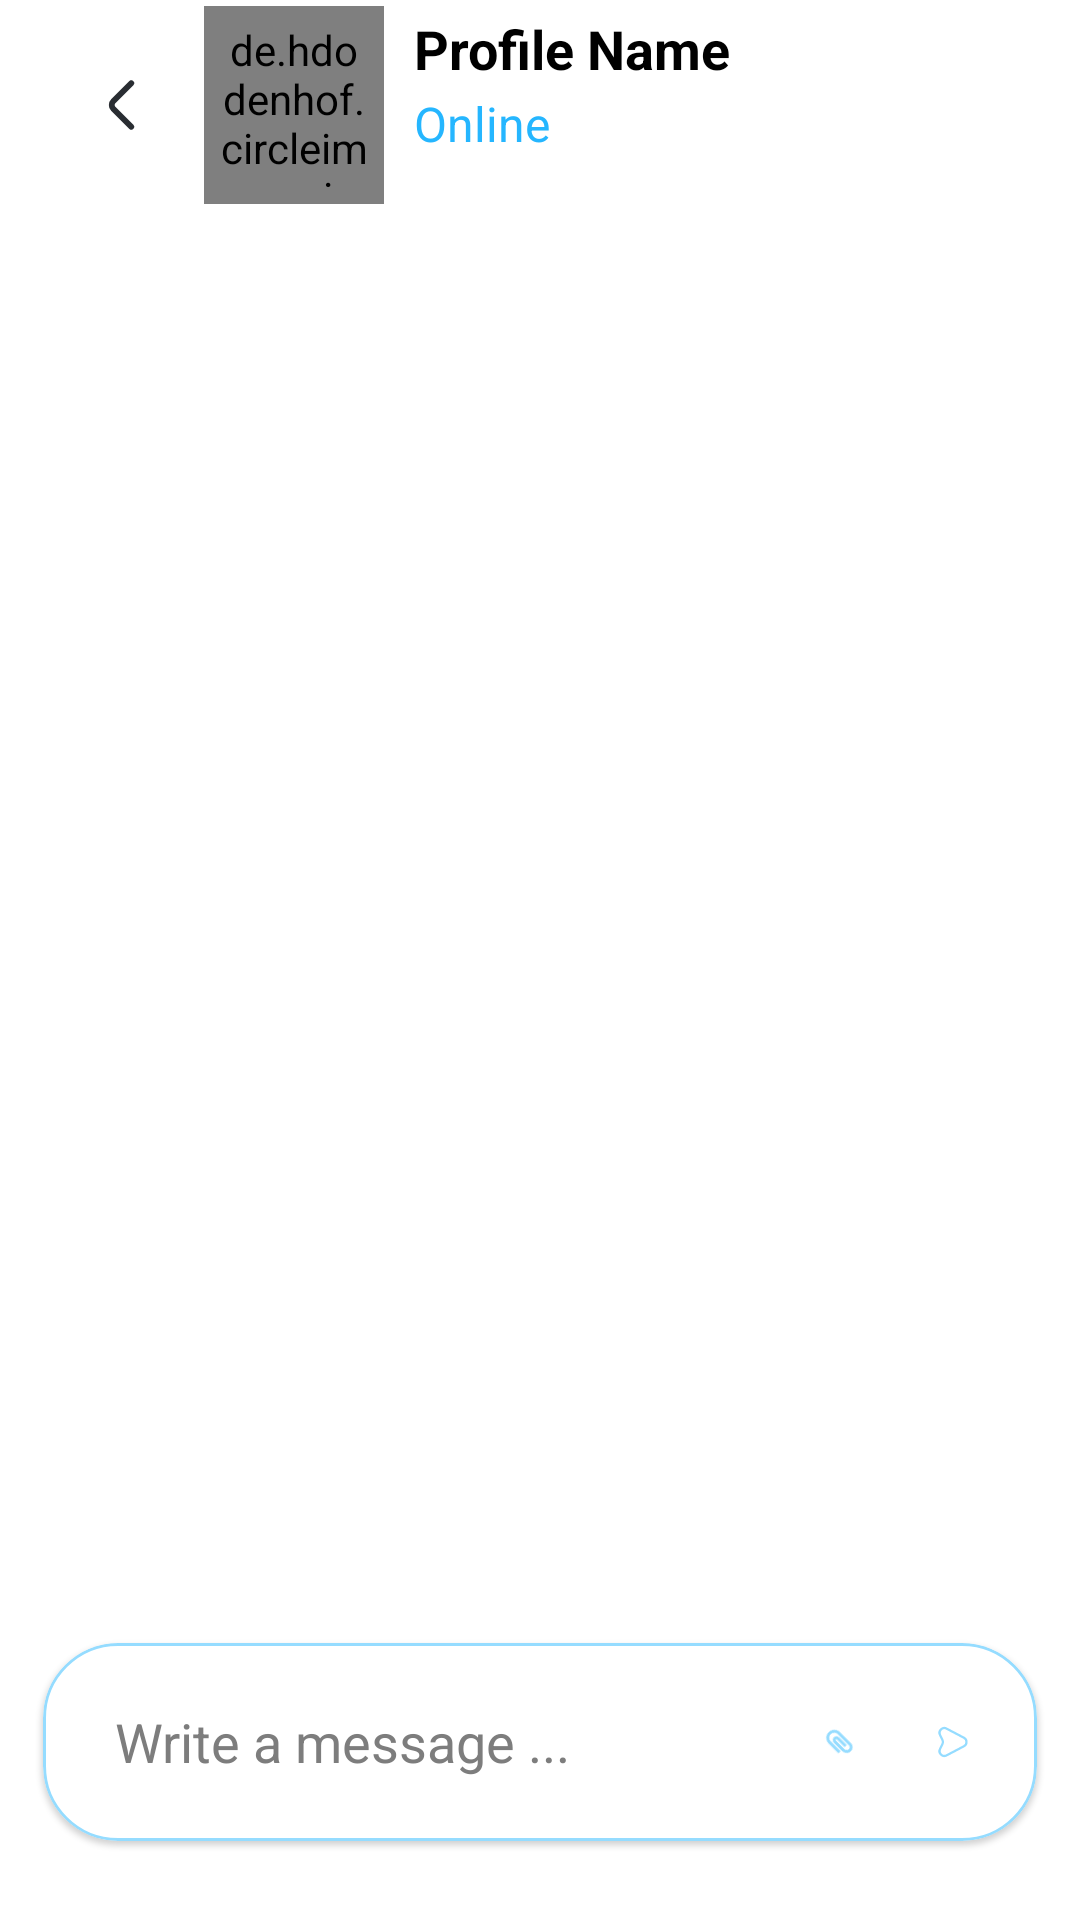

Locate icon controls on the screen. Image size 1080px×1920px, boxes as (x1, y1, x2, y2).
arrow left: (109, 80, 135, 130)
direct right: (938, 1727, 968, 1757)
